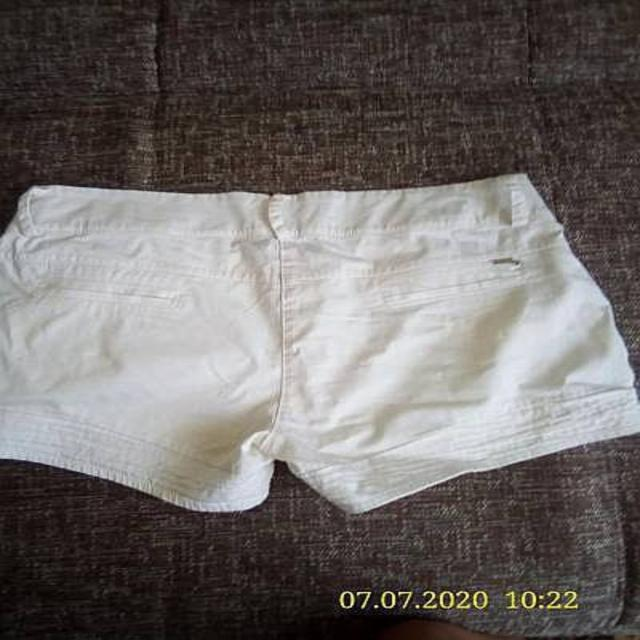SHORT: (0, 158, 640, 528)
